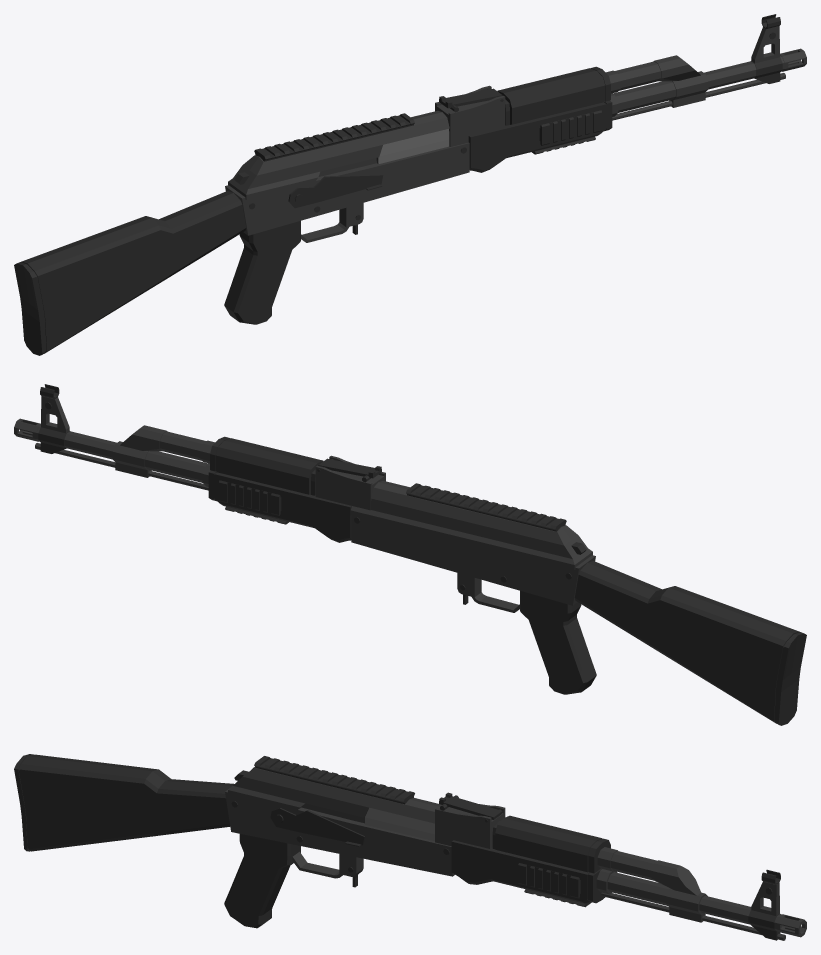
File: AssaultRifle1_03.fbx
The picture shows the model from 3 angles, top to bottom: view 1: azimuth 30°, elevation 25°; view 2: azimuth 150°, elevation 25°; view 3: azimuth 330°, elevation 25°; orthographic projection.
Visible parts, largest first — view 1: AssaultRifle1_03; view 2: AssaultRifle1_03; view 3: AssaultRifle1_03.
Part boxes in pixels (x1,y1,x2,y2): AssaultRifle1_03: (14,14,806,355); AssaultRifle1_03: (14,384,806,725); AssaultRifle1_03: (14,754,806,940).
Size of the model in its own units: 0.9618 by 0.2088 by 0.051.
